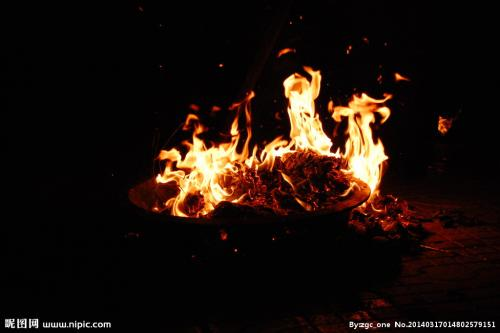fire: (172, 133, 238, 197), (344, 93, 388, 187), (282, 75, 336, 150)
